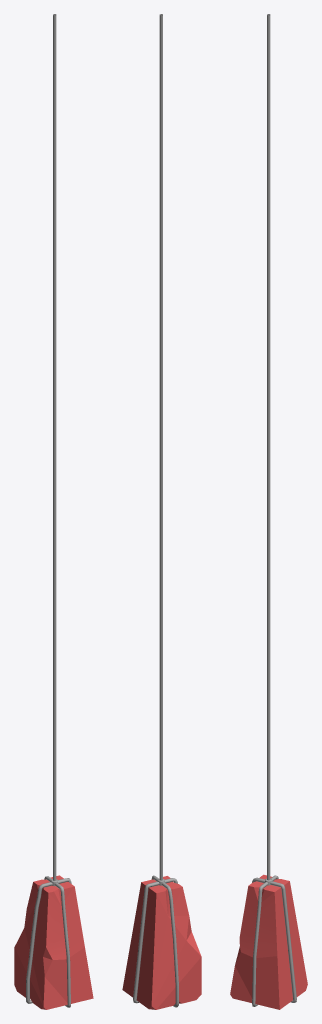
The model's file is pendulum.fbx.
3 renders of one model, left to right at view 1: azimuth 30°, elevation 25°; view 2: azimuth 210°, elevation 25°; view 3: azimuth 330°, elevation 25°, orthographic.
Visible parts, largest first — view 1: pendulum; view 2: pendulum; view 3: pendulum.
Boxes of the visible parts, x1,y1,x2,y2 form: pendulum: (14, 14, 93, 1009); pendulum: (122, 14, 201, 1009); pendulum: (230, 14, 307, 1009).
Size of the model in its own units: 1.67 by 27.93 by 1.67.
